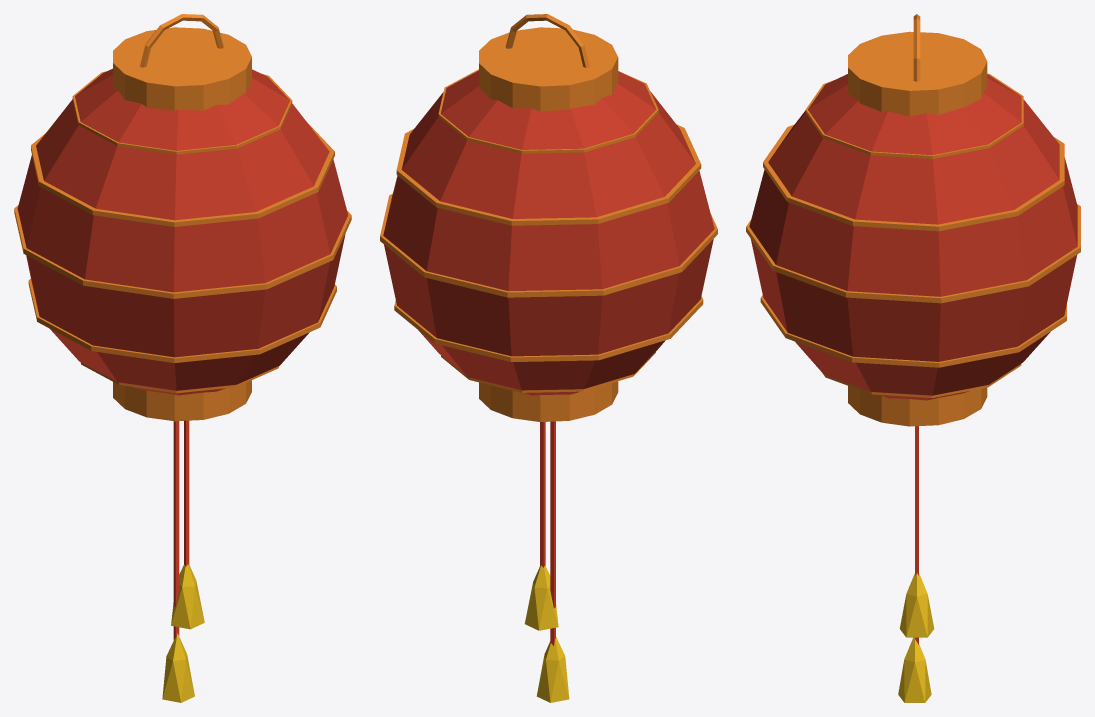
Rendered from ChineseLantern_04.glb.
3 renders of one model, left to right at view 1: azimuth 30°, elevation 25°; view 2: azimuth 150°, elevation 25°; view 3: azimuth 270°, elevation 25°, orthographic.
Visible parts, largest first — view 1: ChineseLantern_04; view 2: ChineseLantern_04; view 3: ChineseLantern_04.
Part boxes in pixels (x1,y1,x2,y2): ChineseLantern_04: [14, 14, 351, 702]; ChineseLantern_04: [380, 14, 717, 702]; ChineseLantern_04: [746, 14, 1080, 702].
Size of the model in its own units: 0.4131 by 0.9179 by 0.4089.
1 material, 1 textured.
